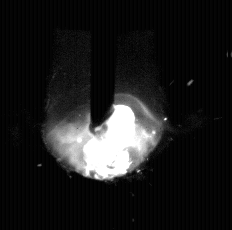arame: (91, 0, 115, 133)
poca: (41, 0, 164, 230)
